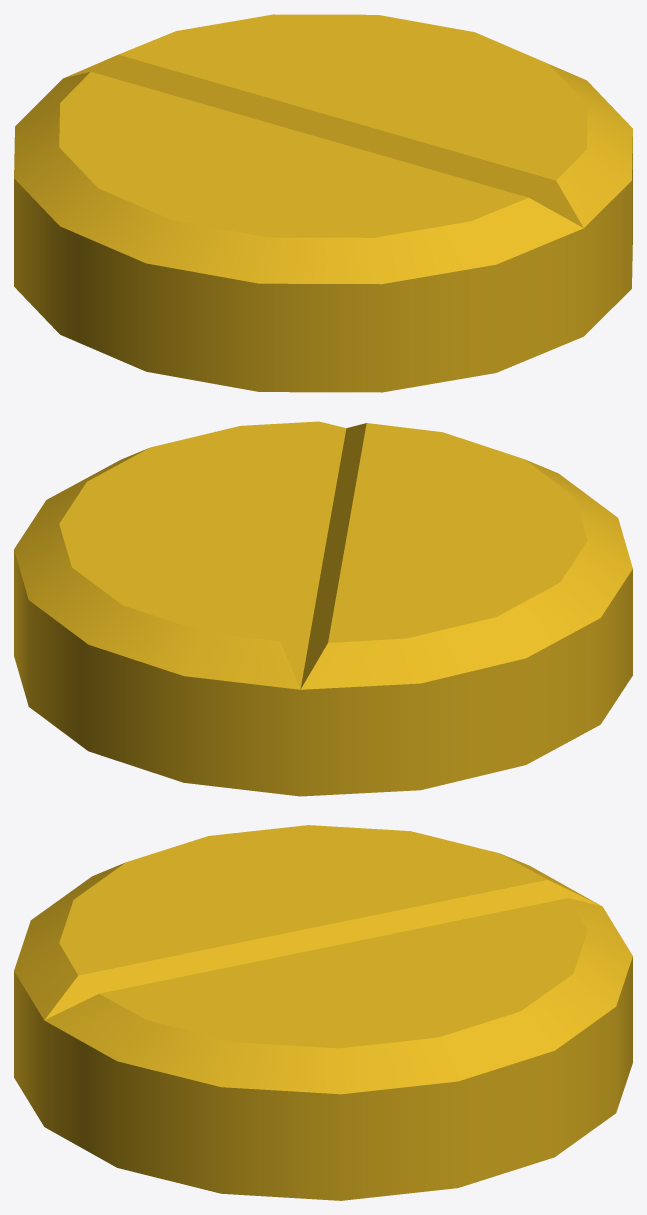
File: aspirin pill.fbx
3 renders of one model, top to bottom at view 1: azimuth 30°, elevation 25°; view 2: azimuth 150°, elevation 25°; view 3: azimuth 270°, elevation 25°, orthographic.
Visible parts, largest first — view 1: aspirin.002; view 2: aspirin.002; view 3: aspirin.002.
Part boxes in pixels (x1,y1,x2,y2): aspirin.002: [14, 14, 632, 392]; aspirin.002: [14, 421, 632, 796]; aspirin.002: [14, 825, 632, 1200].
Bounding box in the file's own units: 0.0199 × 0.00472 × 0.0199.
